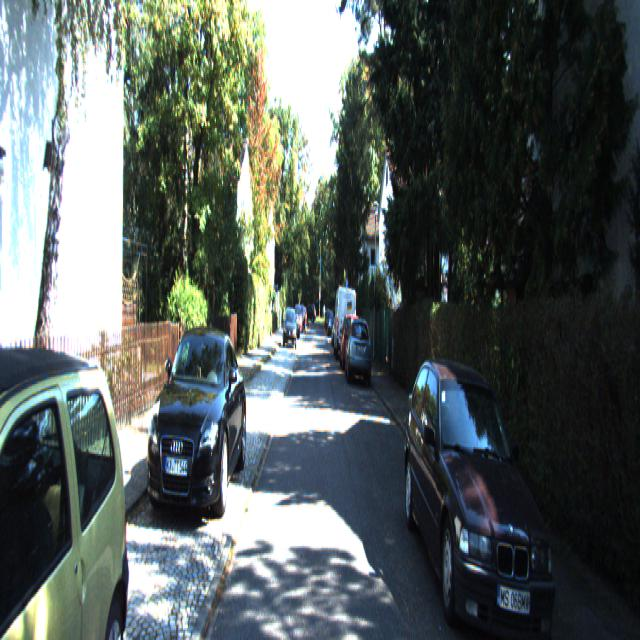Car: (401, 350, 569, 638), (0, 343, 139, 638), (144, 325, 248, 537), (346, 314, 372, 387), (335, 282, 357, 361), (340, 312, 364, 376), (284, 305, 296, 347)
